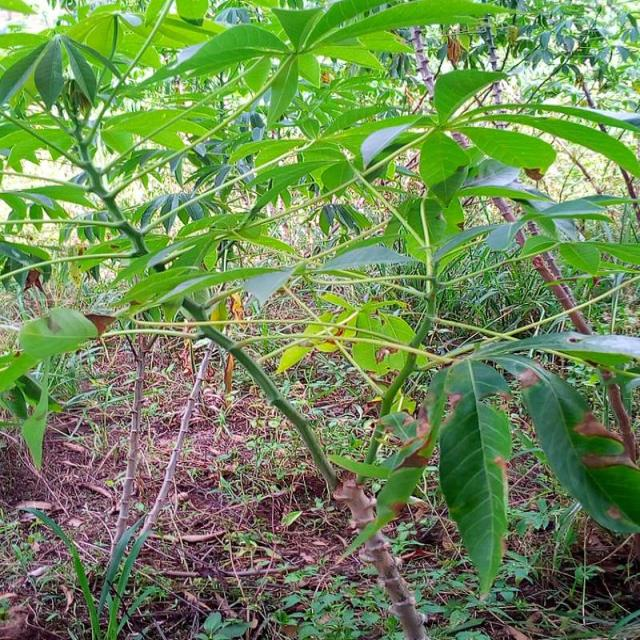cassava leaf: (518, 368, 638, 534), (437, 356, 512, 600)
